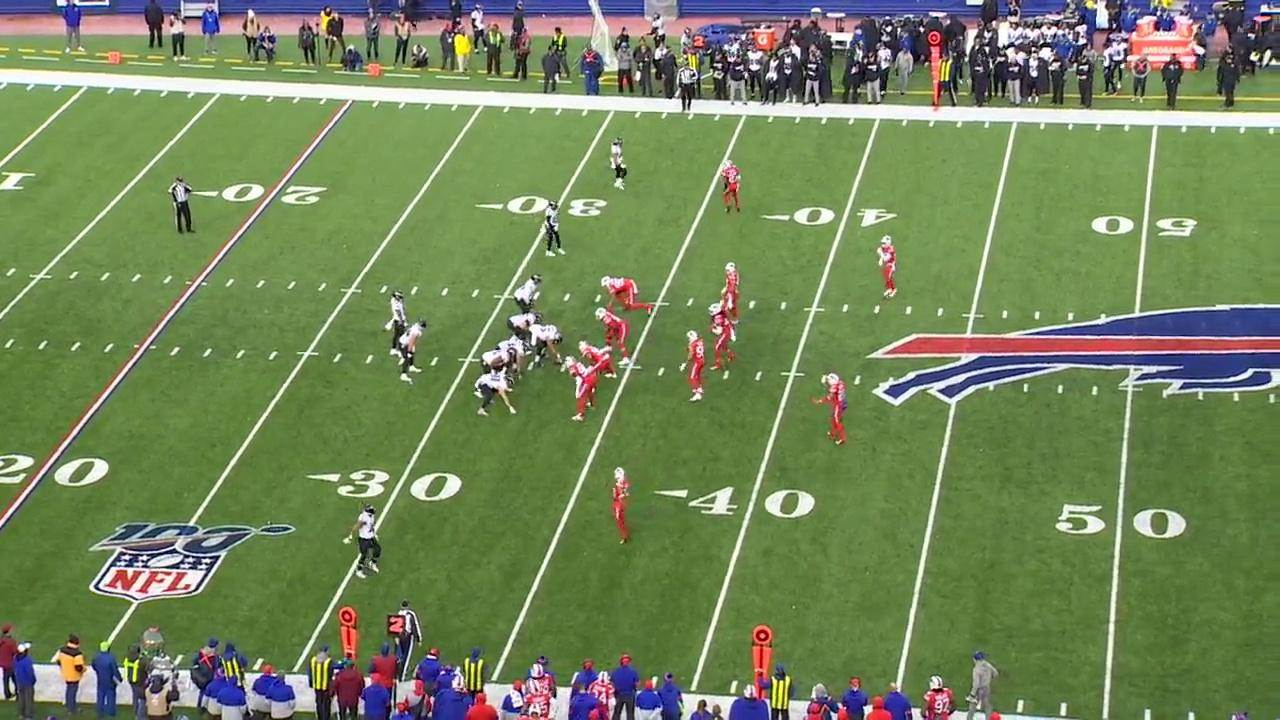defense: (816, 374, 849, 451), (564, 354, 597, 420), (610, 462, 635, 547), (598, 274, 651, 314), (707, 304, 739, 370), (873, 234, 902, 303), (596, 304, 628, 364), (681, 326, 705, 400), (582, 340, 618, 383), (721, 157, 741, 216), (720, 257, 738, 317)
oline: (528, 326, 567, 369), (511, 273, 543, 313), (479, 347, 517, 374), (507, 314, 543, 341), (495, 341, 534, 355)
qb: (383, 287, 407, 359)
ref: (392, 596, 427, 673), (168, 176, 196, 236), (677, 59, 697, 114)
skill: (341, 504, 388, 578), (393, 316, 431, 390), (537, 199, 566, 265), (476, 370, 516, 416), (606, 137, 629, 194)
